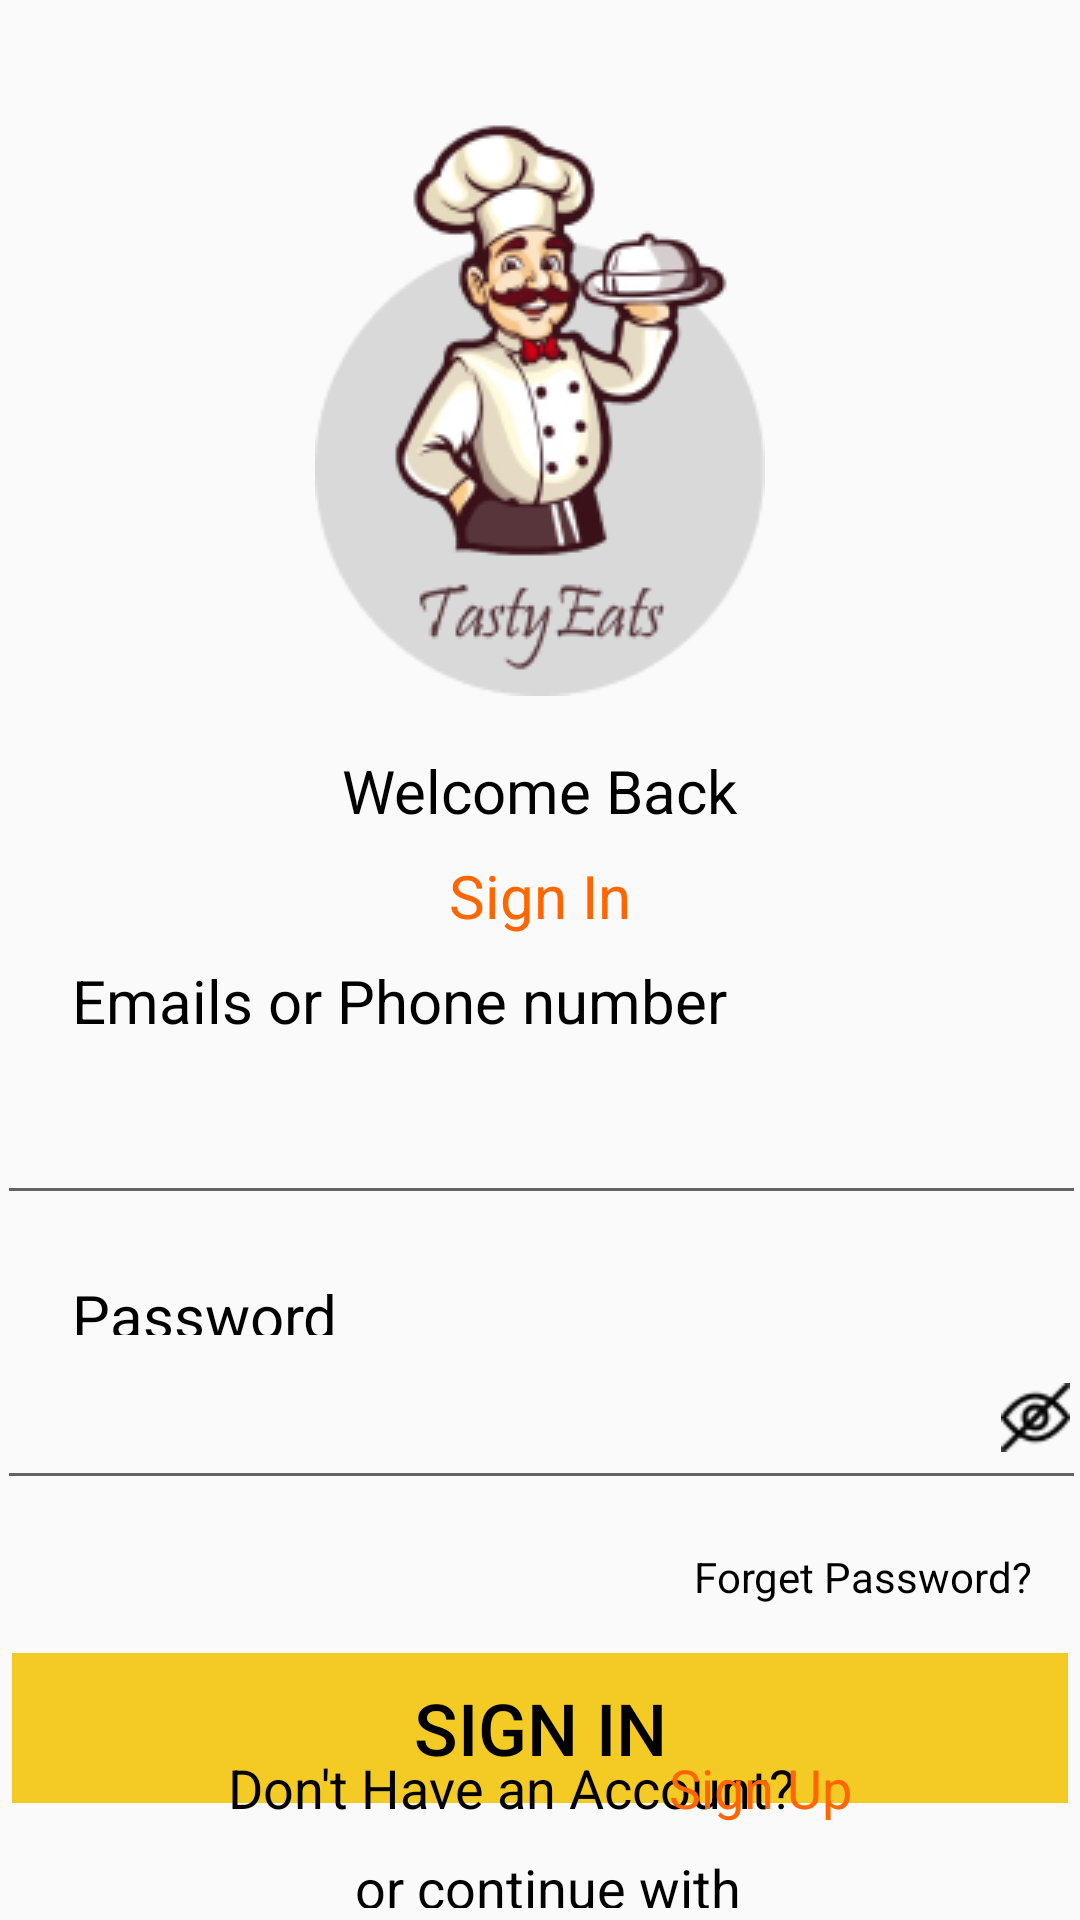

Named icons in this screenshot (1080 × 1920) and their centers, (x=x, y=y):
eye: (x=1035, y=1417)
